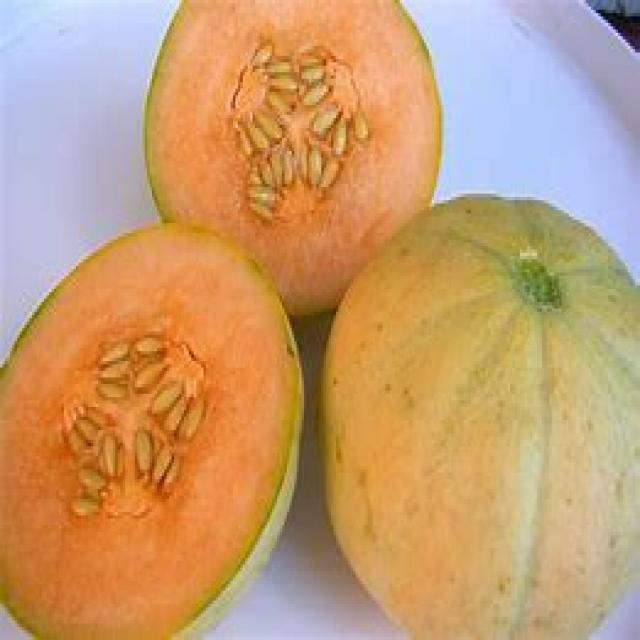Hami Melon: (324, 197, 639, 640), (0, 224, 303, 640), (146, 0, 444, 313)
